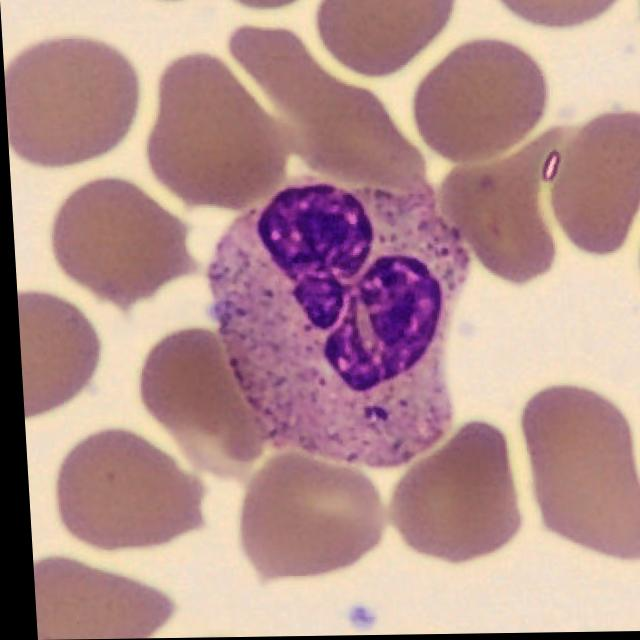Neutrofilo segmentado: (204, 182, 466, 470)
